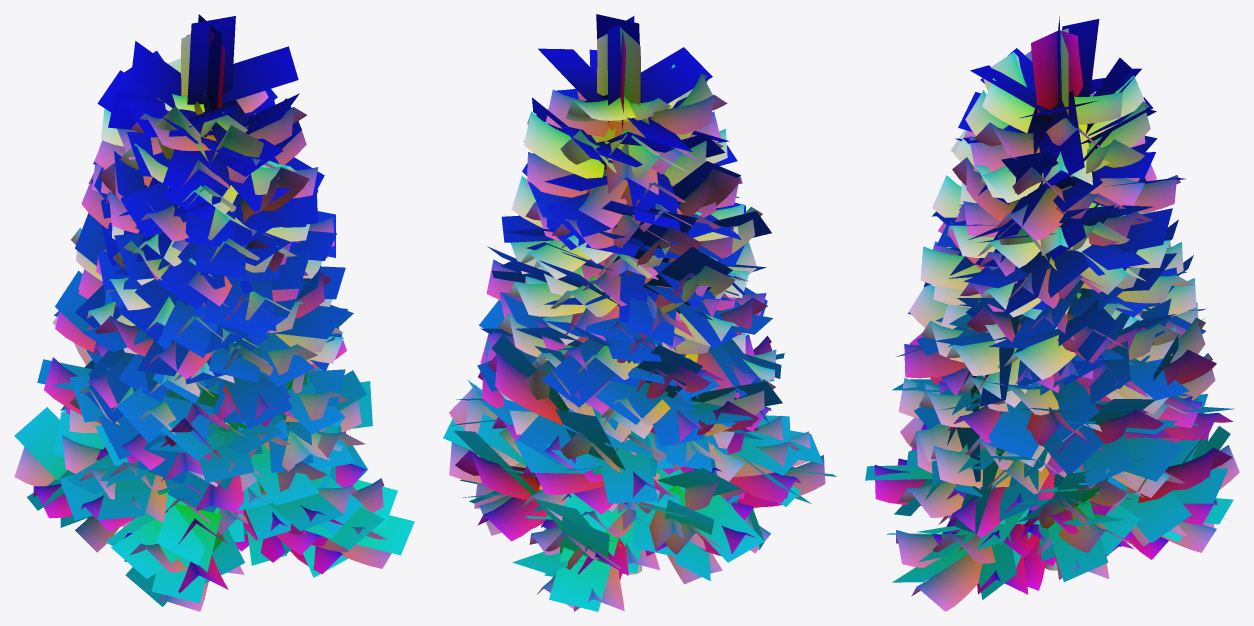
Rendered from spruce_03_1.fbx.
The picture shows the model from 3 angles, left to right: view 1: azimuth 30°, elevation 25°; view 2: azimuth 150°, elevation 25°; view 3: azimuth 270°, elevation 25°; orthographic projection.
Parts seen in each view (by area): view 1: spruce_03_1_leaves_shadow, spruce_03_1_leaves_lod_0; view 2: spruce_03_1_leaves_lod_0, spruce_03_1_leaves_shadow; view 3: spruce_03_1_leaves_lod_0, spruce_03_1_leaves_shadow.
Boxes of the visible parts, left/top/right/bottom form: spruce_03_1_leaves_shadow: left=14, top=14, right=414, bottom=606; spruce_03_1_leaves_lod_0: left=14, top=28, right=391, bottom=611; spruce_03_1_leaves_lod_0: left=449, top=27, right=825, bottom=611; spruce_03_1_leaves_shadow: left=443, top=14, right=836, bottom=611; spruce_03_1_leaves_lod_0: left=874, top=28, right=1239, bottom=611; spruce_03_1_leaves_shadow: left=865, top=16, right=1234, bottom=599.
Size of what is drawn, in the model's own units: 10.36 by 17.14 by 10.65.
